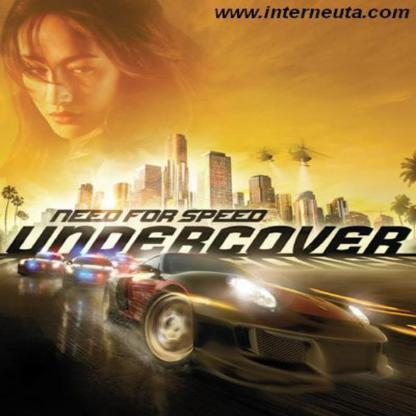Car: (104, 255, 397, 393), (64, 255, 118, 287), (18, 252, 67, 276)
